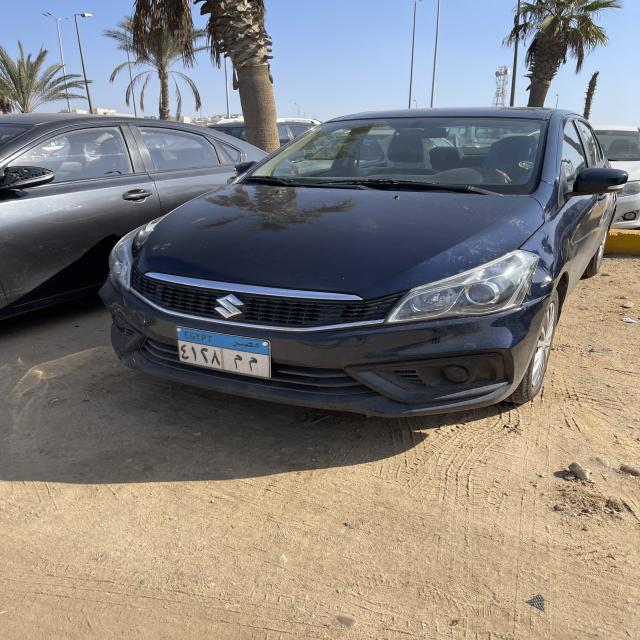License Plate: (177, 326, 271, 379)
